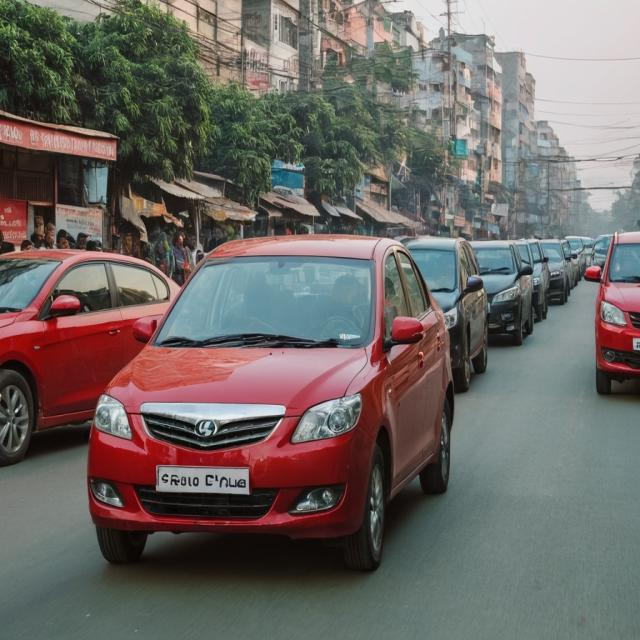black: (386, 238, 489, 390), (462, 241, 533, 346)
red: (74, 235, 466, 582), (0, 233, 202, 468), (596, 234, 640, 434)
